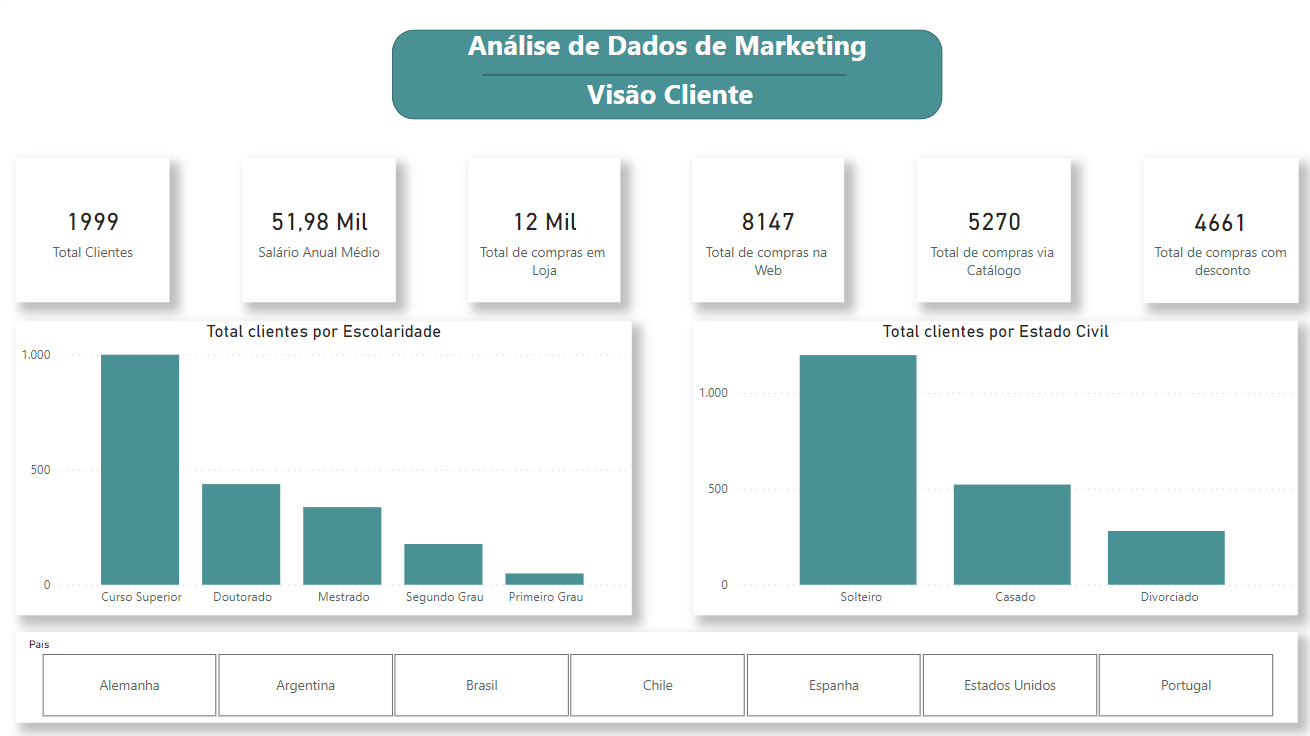

Layout of this report page (visuals, bound fields, positions):
{"tool":"powerbi","page":{"name":"Visão Cliente","canvas":[1280,720],"ordinal":0},"visuals":[{"type":"card","fields":{"Values":["CountNonNull(DadosMarketing.ID)"]},"box":[13.9,153,150.3,140.5],"z":0},{"type":"shape","box":[381.8,26.8,538.4,88.1],"z":1000},{"type":"card","fields":{"Values":["Avg(DadosMarketing.Salario Anual)"]},"box":[235.1,153,150.3,140.5],"z":2000},{"type":"shape","title":"linha","box":[469.8,26.8,356.9,88.4],"z":3000},{"type":"card","fields":{"Values":["Sum(DadosMarketing.Numero de Compras na Loja)"]},"box":[456.3,153,148.9,140.5],"z":4000},{"type":"card","fields":{"Values":["Sum(DadosMarketing.Numero de Compras na Web)"]},"box":[674.8,153,148.9,140.5],"z":5000},{"type":"card","fields":{"Values":["Sum(DadosMarketing.Numero de Compras com Desconto)"]},"box":[1115.8,153,151.7,141.9],"z":6000},{"type":"card","fields":{"Values":["Sum(DadosMarketing.Numero de Compras via Catalogo)"]},"box":[894.6,153,150.3,140.5],"z":7000},{"type":"clusteredColumnChart","title":"Total clientes por Escolaridade","fields":{"Category":["DadosMarketing.Escolaridade"],"Y":["CountNonNull(DadosMarketing.ID)"]},"box":[13.9,311.7,602.4,288],"z":8000},{"type":"clusteredColumnChart","title":"Total clientes por Estado Civil","fields":{"Y":["CountNonNull(DadosMarketing.ID)"],"Category":["DadosMarketing.Estado Civil"]},"box":[676.2,311.7,591.3,288],"z":9000},{"type":"slicer","fields":{"Values":["DadosMarketing.Pais"]},"box":[13.9,616.3,1253.6,89],"z":10000},{"type":"textbox","title":"texto marketing","box":[381.5,17.8,538.4,52.9],"z":11000},{"type":"textbox","title":"visao cliente","box":[387,70.7,531.5,43.1],"z":12000}]}

Visuals, with their boxes in screenshot pixels (x1, y1, x2, y2), scaled from the page's 1280x720 canvas onto the 1310x736 screenshot:
card - CountNonNull(DadosMarketing.ID): detection(14, 156, 168, 300)
shape: detection(391, 27, 942, 117)
card - Avg(DadosMarketing.Salario Anual): detection(241, 156, 394, 300)
"linha" shape: detection(481, 27, 846, 118)
card - Sum(DadosMarketing.Numero de Compras na Loja): detection(467, 156, 619, 300)
card - Sum(DadosMarketing.Numero de Compras na Web): detection(691, 156, 843, 300)
card - Sum(DadosMarketing.Numero de Compras com Desconto): detection(1142, 156, 1297, 301)
card - Sum(DadosMarketing.Numero de Compras via Catalogo): detection(916, 156, 1069, 300)
"Total clientes por Escolaridade" clusteredColumnChart: detection(14, 319, 631, 613)
"Total clientes por Estado Civil" clusteredColumnChart: detection(692, 319, 1297, 613)
slicer - DadosMarketing.Pais: detection(14, 630, 1297, 721)
"texto marketing" textbox: detection(390, 18, 941, 72)
"visao cliente" textbox: detection(396, 72, 940, 116)
